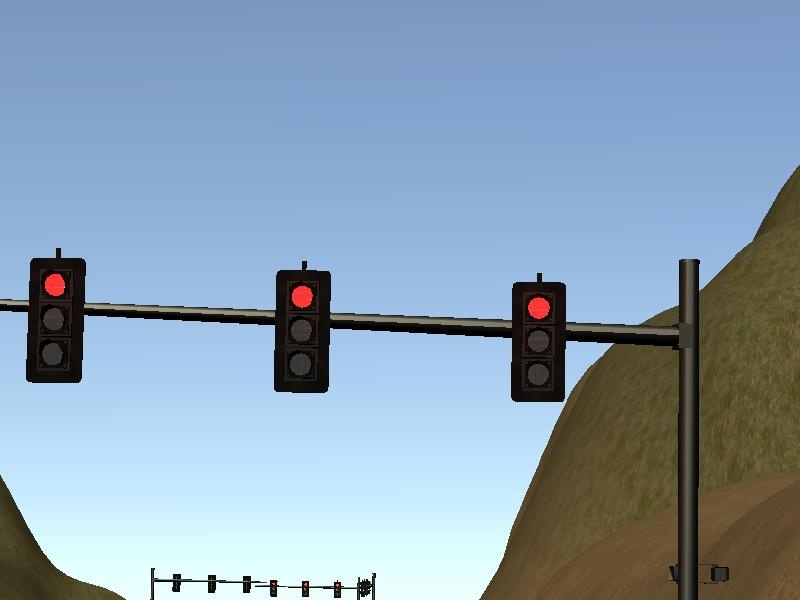RED: (25, 257, 87, 382), (275, 271, 332, 394), (511, 283, 567, 401)
